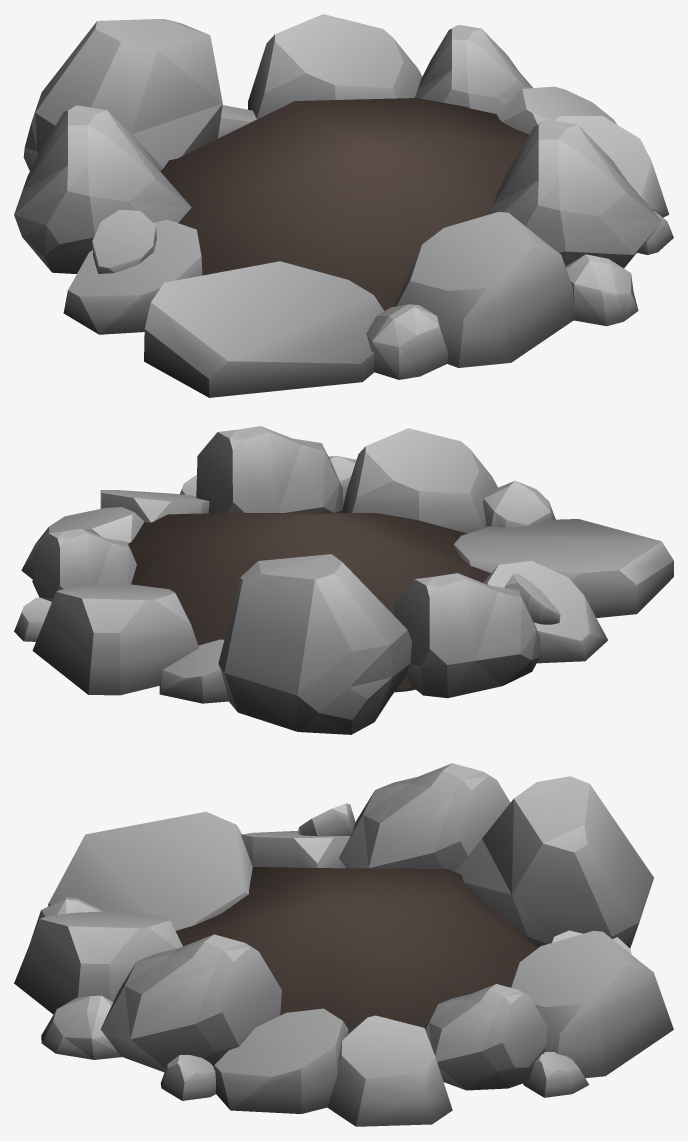
Rendered from Firepit-01.FBX.
3 views of the same model, one above another, from view 1: azimuth 30°, elevation 25°; view 2: azimuth 150°, elevation 25°; view 3: azimuth 270°, elevation 25° (orthographic). The views are drawn at different scales.
Visible parts, largest first — view 1: Firepit-01; view 2: Firepit-01; view 3: Firepit-01.
Boxes of the visible parts, left/top/right/bottom form: Firepit-01: left=14, top=14, right=673, bottom=397; Firepit-01: left=14, top=426, right=673, bottom=734; Firepit-01: left=14, top=763, right=673, bottom=1126.
Bounding box in the file's own units: 216 × 56.48 × 217.
Materials: 1 (1 with a texture image).
